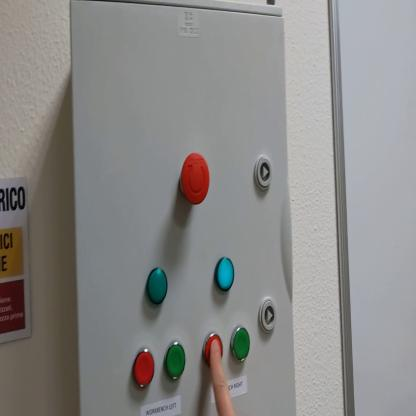hand: (208, 340, 238, 415)
left green button: (166, 340, 187, 384)
left red button: (134, 350, 157, 390)
right green button: (232, 326, 252, 365)
right red button: (203, 331, 225, 367)
